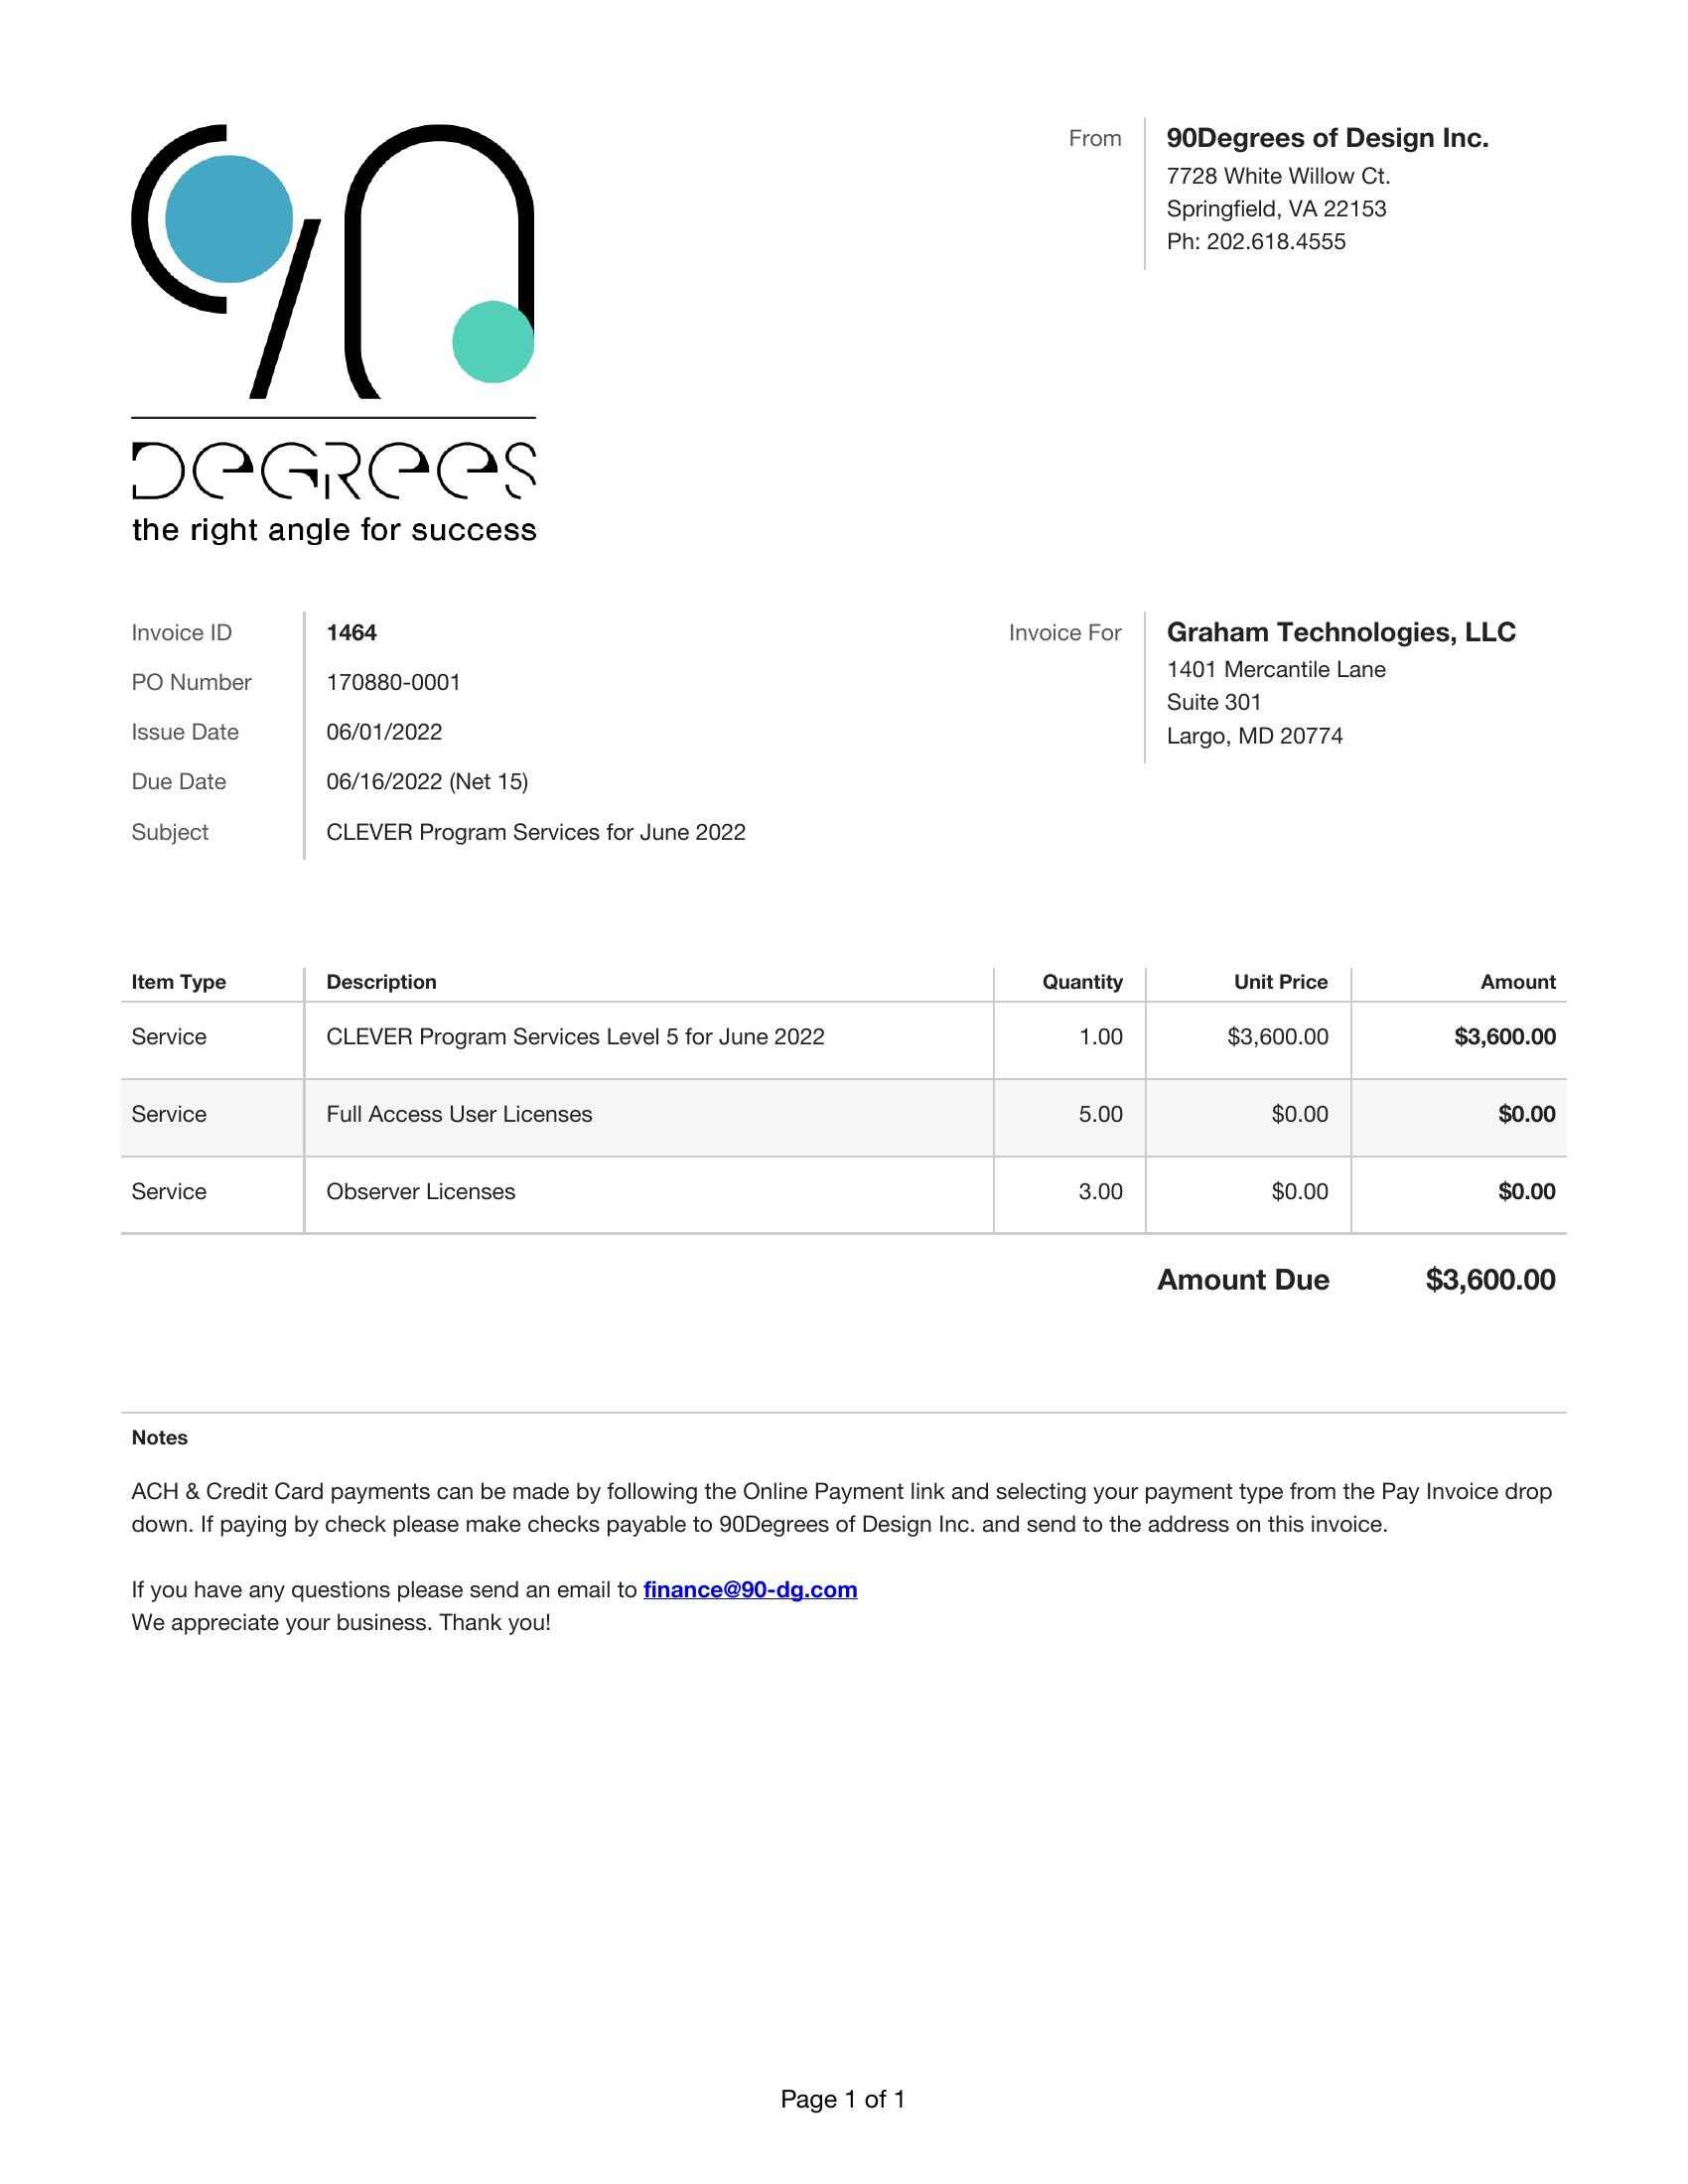table: (73, 940, 1580, 1236)
